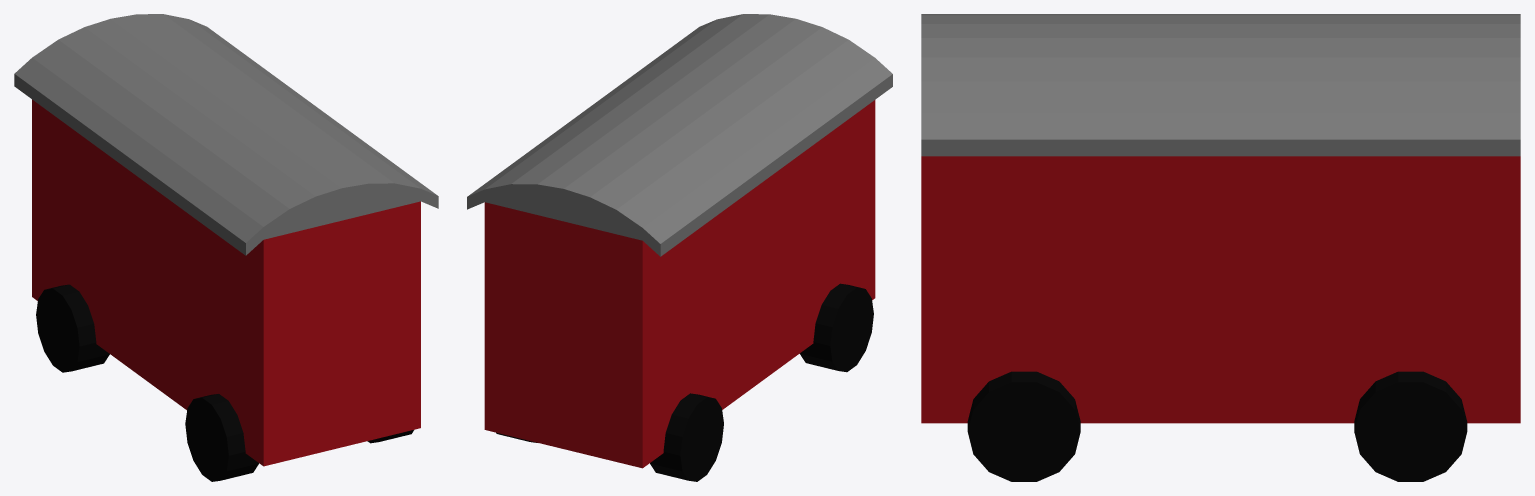
File: Train_wagon.fbx
3 renders of one model, left to right at view 1: azimuth 30°, elevation 25°; view 2: azimuth 150°, elevation 25°; view 3: azimuth 270°, elevation 25°, orthographic. The views are drawn at different scales.
Visible parts, largest first — view 1: Cube, Train_BackWheel_Left, Train_FrontWheel_Left; view 2: Cube, Train_FrontWheel_Left, Train_BackWheel_Left; view 3: Cube, Train_FrontWheel_Right, Train_BackWheel_Right.
Boxes of the visible parts, x1,y1,x2,y2 form: Cube: (14, 14, 438, 466); Train_BackWheel_Left: (185, 394, 258, 481); Train_FrontWheel_Left: (36, 284, 109, 372); Cube: (467, 14, 892, 468); Train_FrontWheel_Left: (650, 393, 723, 481); Train_BackWheel_Left: (799, 283, 873, 372); Cube: (921, 14, 1520, 423); Train_FrontWheel_Right: (1354, 371, 1467, 481); Train_BackWheel_Right: (967, 371, 1080, 481).
Bounding box in the file's own units: 160 × 234 × 332.
